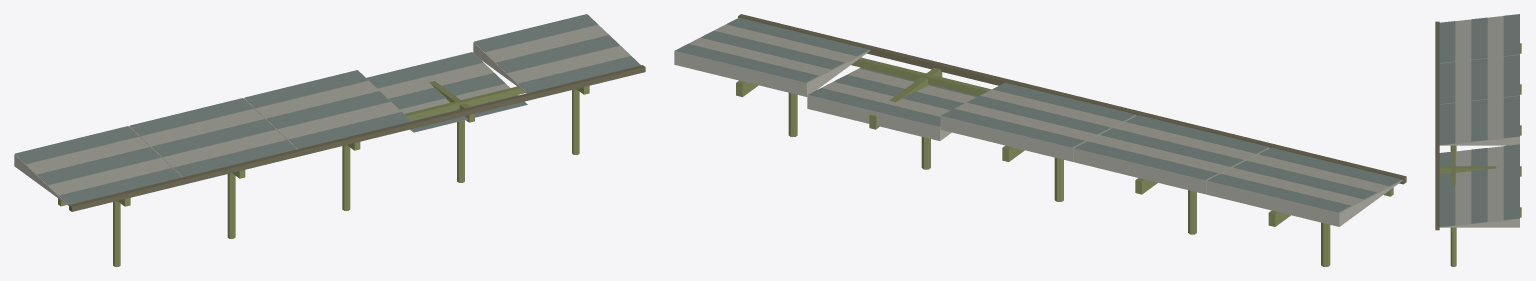
The model's file is SM_marquesina_v2_LOD1.fbx.
3 renders of one model, left to right at view 1: azimuth 30°, elevation 25°; view 2: azimuth 150°, elevation 25°; view 3: azimuth 270°, elevation 25°, orthographic. The views are drawn at different scales.
Parts seen in each view (by area): view 1: SM_bloques.marquesina_v2_LOD1; view 2: SM_bloques.marquesina_v2_LOD1; view 3: SM_bloques.marquesina_v2_LOD1.
Boxes of the visible parts, x1,y1,x2,y2 form: SM_bloques.marquesina_v2_LOD1: (14, 14, 645, 266); SM_bloques.marquesina_v2_LOD1: (674, 14, 1406, 266); SM_bloques.marquesina_v2_LOD1: (1435, 14, 1521, 266).
Size of the model in its own units: 30 by 4.63 by 5.32.
